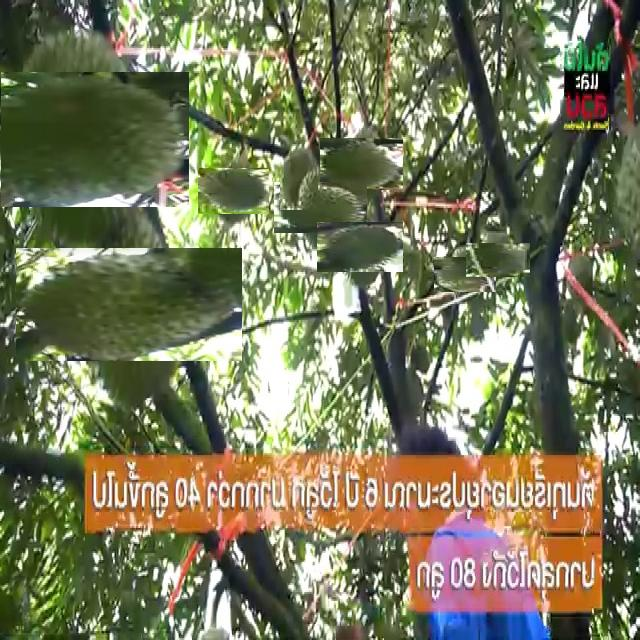durian: (0, 48, 166, 230), (44, 219, 214, 389), (284, 171, 356, 244), (326, 213, 395, 282), (328, 130, 395, 198), (204, 162, 264, 220), (280, 139, 318, 210), (473, 235, 522, 285), (441, 250, 490, 299)
